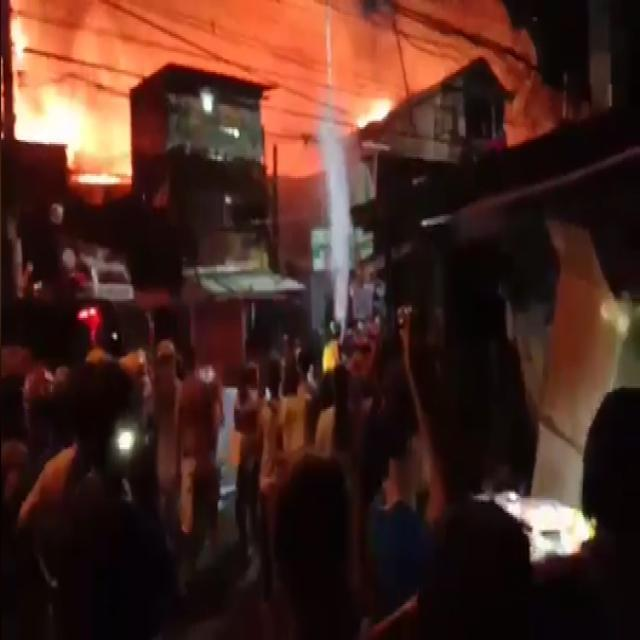Fire: (21, 85, 110, 142)
Smoke: (43, 4, 329, 61)
